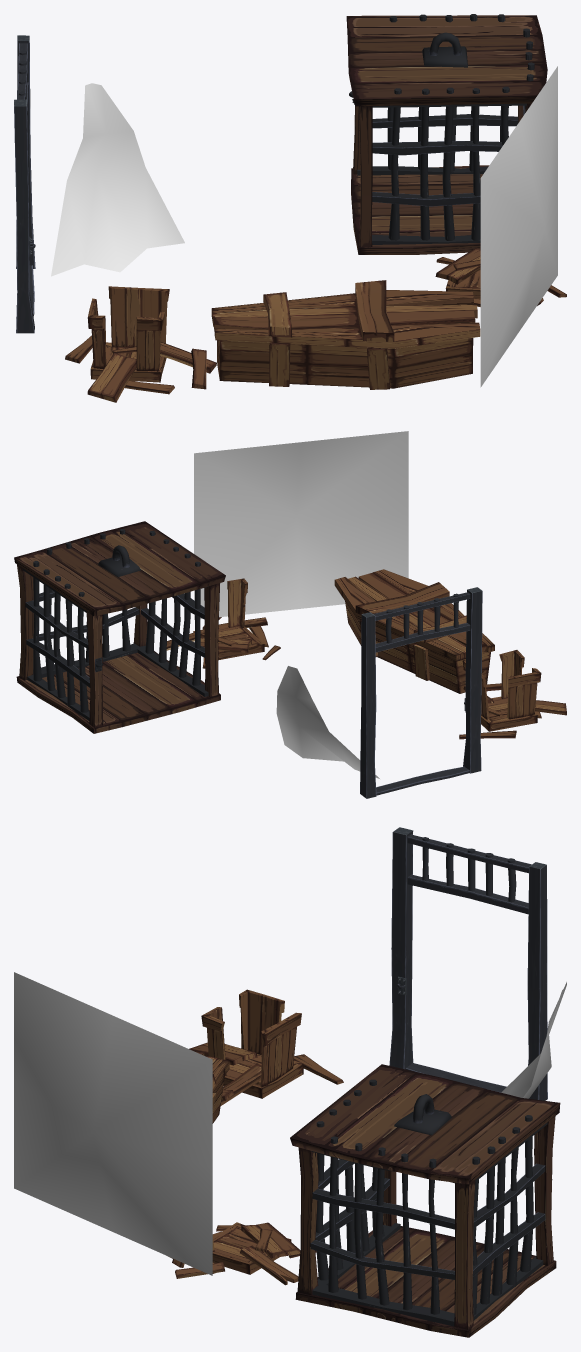
File: RoomC.fbx
3 views of the same model, one above another, from view 1: azimuth 30°, elevation 25°; view 2: azimuth 150°, elevation 25°; view 3: azimuth 270°, elevation 25° (orthographic). The views are drawn at different scales.
Visible parts, largest first — view 1: SM_PROP_coffin_dungeon.001, SM_PROP_spiderweb_dungeon_03.003, SM_PROP_spiderweb_dungeon_01.005, SM_PROP_bars_doorway_dungeon_01.001; view 2: SM_PROP_coffin_dungeon.001, SM_PROP_spiderweb_dungeon_03.003, SM_PROP_bars_doorway_dungeon_01.001, SM_PROP_spiderweb_dungeon_01.005; view 3: SM_PROP_coffin_dungeon.001, SM_PROP_spiderweb_dungeon_03.003, SM_PROP_bars_doorway_dungeon_01.001, SM_PROP_spiderweb_dungeon_01.005.
Part boxes in pixels (x1,y1,x2,y2): SM_PROP_coffin_dungeon.001: (65,14,566,402); SM_PROP_spiderweb_dungeon_03.003: (480,66,557,387); SM_PROP_spiderweb_dungeon_01.005: (51,83,184,276); SM_PROP_bars_doorway_dungeon_01.001: (14,35,35,333); SM_PROP_coffin_dungeon.001: (14,521,566,739); SM_PROP_spiderweb_dungeon_03.003: (194,431,408,619); SM_PROP_bars_doorway_dungeon_01.001: (360,587,482,798); SM_PROP_spiderweb_dungeon_01.005: (276,666,379,778); SM_PROP_coffin_dungeon.001: (168,989,560,1337); SM_PROP_spiderweb_dungeon_03.003: (14,972,212,1275); SM_PROP_bars_doorway_dungeon_01.001: (389,827,547,1100); SM_PROP_spiderweb_dungeon_01.005: (501,982,566,1098).
Size of the model in its own units: 7.92 by 3.01 by 6.42.
5 materials, 4 textured.
